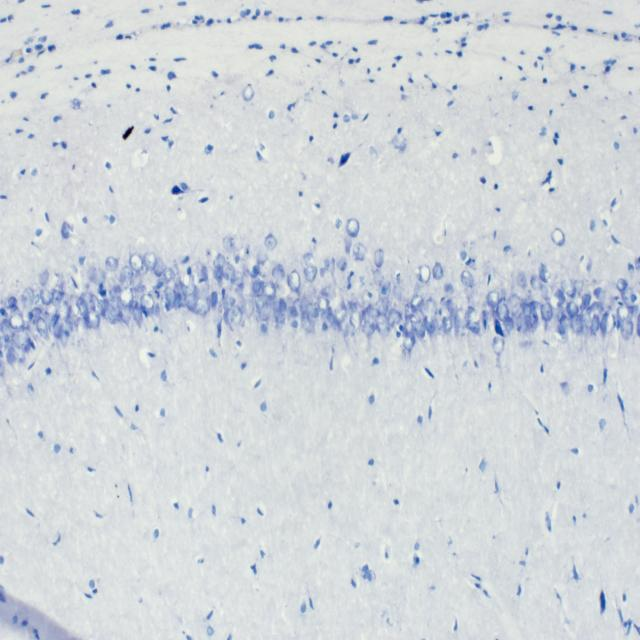neuron: (522, 290, 538, 333), (12, 328, 32, 353), (409, 313, 426, 340), (223, 305, 243, 326), (621, 287, 640, 308), (180, 272, 196, 296), (600, 310, 616, 334), (87, 266, 106, 286), (585, 300, 604, 320), (506, 293, 522, 315), (56, 299, 70, 324), (376, 314, 390, 338), (561, 278, 577, 299), (422, 314, 436, 337), (128, 252, 144, 272), (301, 314, 316, 335), (551, 225, 565, 247), (9, 344, 26, 362), (143, 252, 158, 272), (140, 293, 155, 313), (334, 304, 349, 324), (387, 308, 402, 328), (287, 269, 300, 292), (432, 317, 446, 338), (620, 320, 634, 341), (22, 287, 34, 311), (220, 263, 236, 281), (260, 281, 276, 299), (352, 242, 367, 261), (460, 270, 475, 289), (616, 304, 631, 323), (82, 291, 96, 311), (346, 218, 360, 238), (36, 317, 48, 340), (425, 298, 438, 319), (538, 262, 551, 283), (9, 313, 25, 330), (120, 286, 133, 306), (272, 263, 285, 283), (403, 331, 416, 351), (492, 336, 505, 356), (570, 314, 583, 334), (86, 311, 100, 329), (153, 256, 165, 277), (196, 297, 210, 315), (242, 298, 254, 319), (410, 294, 424, 312), (454, 309, 466, 330), (75, 296, 88, 315), (223, 234, 236, 253), (220, 294, 235, 310), (418, 264, 430, 284), (516, 313, 528, 333), (541, 302, 553, 322), (40, 288, 54, 305), (264, 234, 278, 251), (304, 265, 318, 282), (361, 320, 375, 337), (496, 304, 509, 322), (566, 301, 579, 319), (350, 310, 361, 331), (442, 299, 453, 320), (120, 305, 132, 324), (317, 295, 329, 314), (133, 303, 142, 328), (105, 256, 119, 272), (162, 267, 176, 283), (306, 302, 320, 318), (541, 284, 555, 300), (465, 305, 478, 322), (486, 290, 499, 307), (590, 314, 600, 336), (231, 270, 243, 288), (252, 292, 264, 310), (373, 269, 385, 287), (119, 266, 134, 280), (324, 255, 335, 274), (582, 312, 593, 331), (213, 253, 226, 269), (530, 275, 543, 291), (593, 286, 606, 302), (130, 273, 142, 290), (374, 248, 384, 268), (432, 262, 443, 280), (503, 316, 514, 334), (580, 294, 591, 312), (466, 321, 481, 334), (256, 248, 268, 264), (558, 314, 570, 330), (556, 304, 566, 323), (164, 286, 173, 307), (5, 296, 18, 310), (287, 290, 300, 304), (0, 334, 10, 352), (39, 268, 49, 286), (185, 294, 195, 312), (337, 255, 347, 272), (516, 271, 526, 288), (252, 280, 264, 294), (327, 306, 335, 327), (303, 252, 315, 266), (213, 267, 224, 282), (174, 292, 182, 312), (375, 300, 385, 316), (251, 264, 263, 277), (616, 278, 627, 292), (393, 284, 402, 301), (300, 295, 308, 314), (556, 322, 566, 337), (31, 307, 42, 320), (76, 316, 86, 330), (444, 282, 454, 296), (0, 318, 9, 333), (286, 306, 298, 317), (278, 298, 286, 314), (211, 292, 218, 308), (445, 318, 452, 333), (217, 300, 224, 314), (0, 360, 5, 376), (0, 308, 8, 318), (34, 294, 39, 304)
